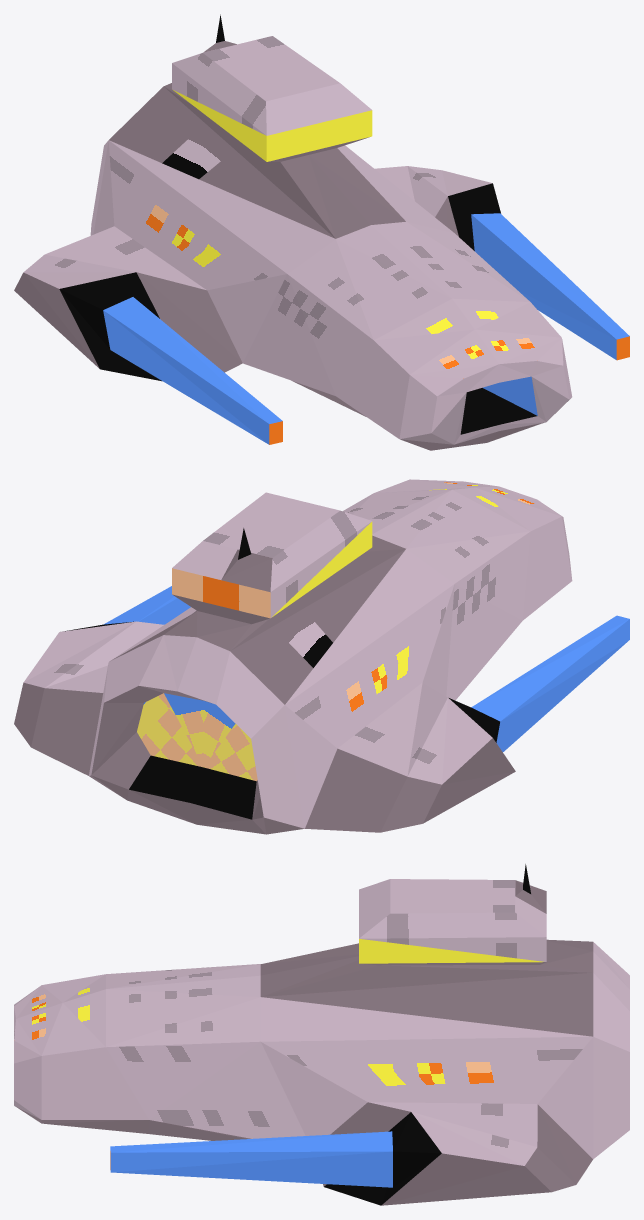
File: gamilon_large.glb
3 views of the same model, one above another, from view 1: azimuth 30°, elevation 25°; view 2: azimuth 150°, elevation 25°; view 3: azimuth 270°, elevation 25° (orthographic). The views are drawn at different scales.
Parts seen in each view (by area): view 1: GamilonLarge; view 2: GamilonLarge; view 3: GamilonLarge.
Boxes of the visible parts, box(x1,y1,x2,y2) form: GamilonLarge: box(14, 14, 629, 450); GamilonLarge: box(14, 479, 629, 834); GamilonLarge: box(14, 864, 629, 1205).
Bounding box in the file's own units: 8.64 × 5.22 × 11.14.
Materials: 1 (1 with a texture image).
